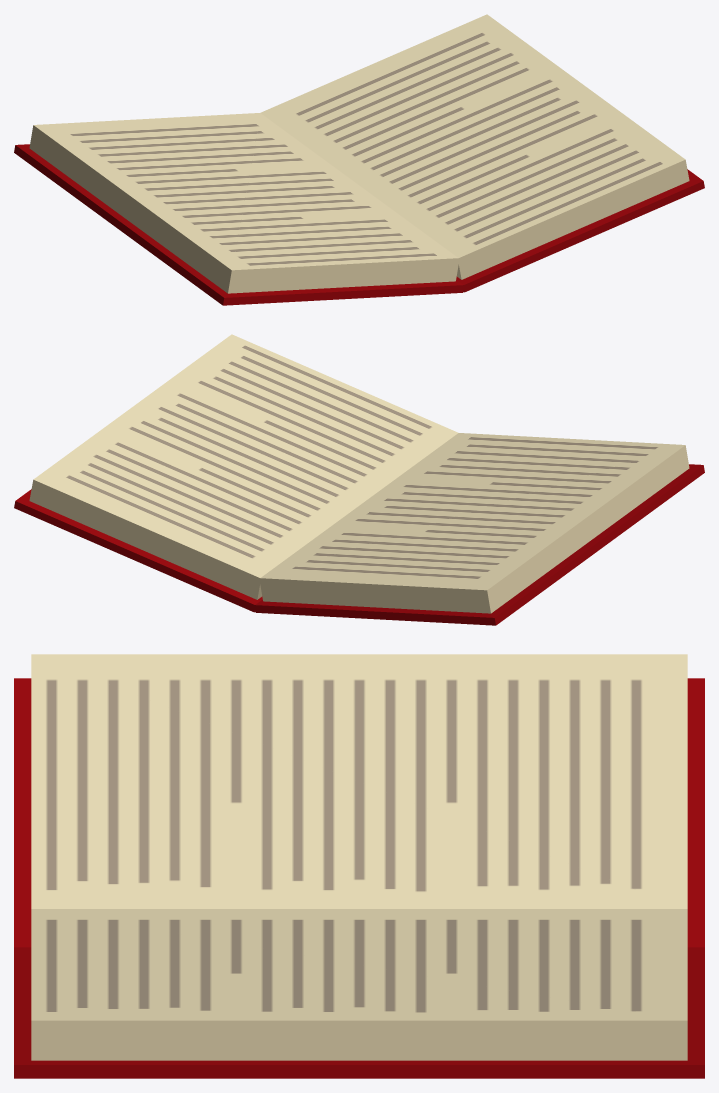
File: book.glb
3 renders of one model, top to bottom at view 1: azimuth 30°, elevation 25°; view 2: azimuth 150°, elevation 25°; view 3: azimuth 270°, elevation 25°, orthographic. The views are drawn at different scales.
Bounding box in the file's own units: 0.2664 × 0.039 × 0.2.
Materials: 3 (1 with a texture image).
